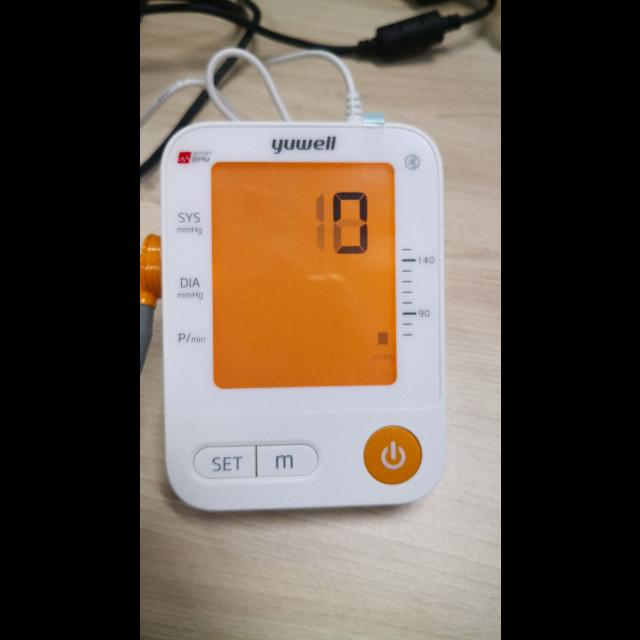Blood-Pressure-Monitor: (160, 122, 448, 512)
